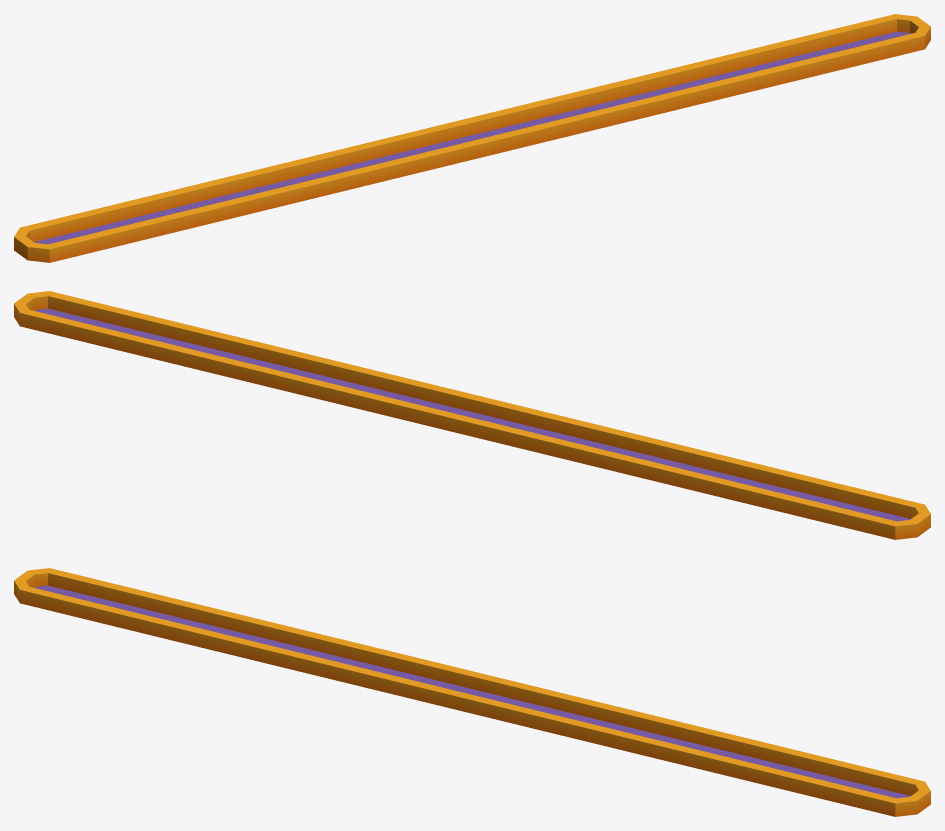
The model's file is Gound_Socket_03_v02.fbx.
3 renders of one model, top to bottom at view 1: azimuth 30°, elevation 25°; view 2: azimuth 150°, elevation 25°; view 3: azimuth 330°, elevation 25°, orthographic.
Parts seen in each view (by area): view 1: Obstacle_Gound_Socket_03_v02; view 2: Obstacle_Gound_Socket_03_v02; view 3: Obstacle_Gound_Socket_03_v02.
Part boxes in pixels (<box>): Obstacle_Gound_Socket_03_v02: <box>14,14,930,262</box>; Obstacle_Gound_Socket_03_v02: <box>14,291,930,539</box>; Obstacle_Gound_Socket_03_v02: <box>14,568,930,816</box>.
Bounding box in the file's own units: 350 × 5 × 20.
1 material, 1 textured.
